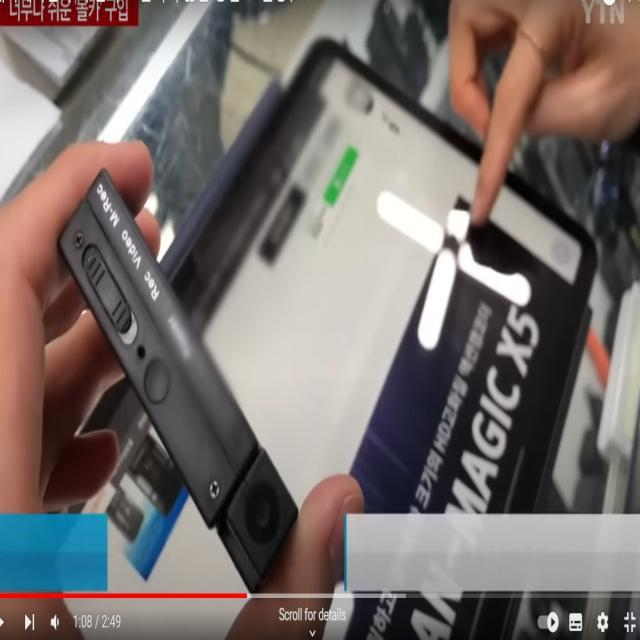hidden camera: (135, 339, 147, 362)
